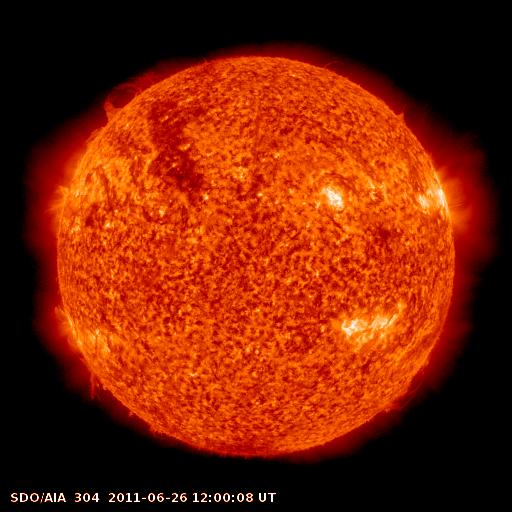prominence: (71, 350, 123, 408), (100, 76, 156, 124), (382, 364, 429, 413), (390, 99, 416, 133), (78, 128, 102, 155)
